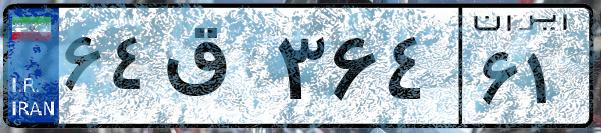1: (525, 38, 570, 115)
3: (270, 28, 330, 110)
4: (385, 28, 445, 110), (110, 28, 158, 98)
6: (330, 28, 385, 110), (57, 26, 110, 100), (475, 38, 525, 113)
ق: (158, 20, 270, 120)
